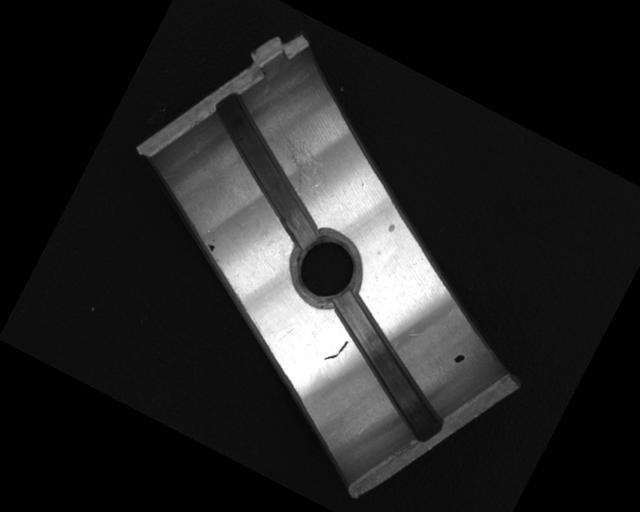blot: (451, 351, 467, 367), (205, 241, 217, 253)
bruise: (385, 222, 397, 236)
gap: (178, 90, 357, 252), (301, 287, 472, 440)
hole: (278, 222, 371, 317)
nick: (324, 334, 350, 366)
scratch: (250, 118, 337, 201)
